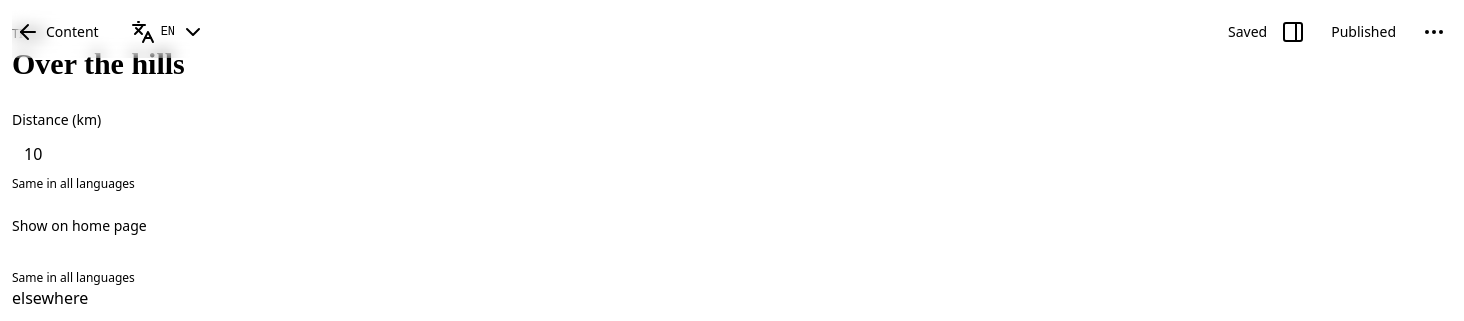
Scenario: offers AI translation only when AI is ready
The image size is (1464, 321).
What coordinates should you click on to do the following:
click the button with aria-label "Language: English"
I would click on:
 (168, 32)
Its box is [119,16,217,48].
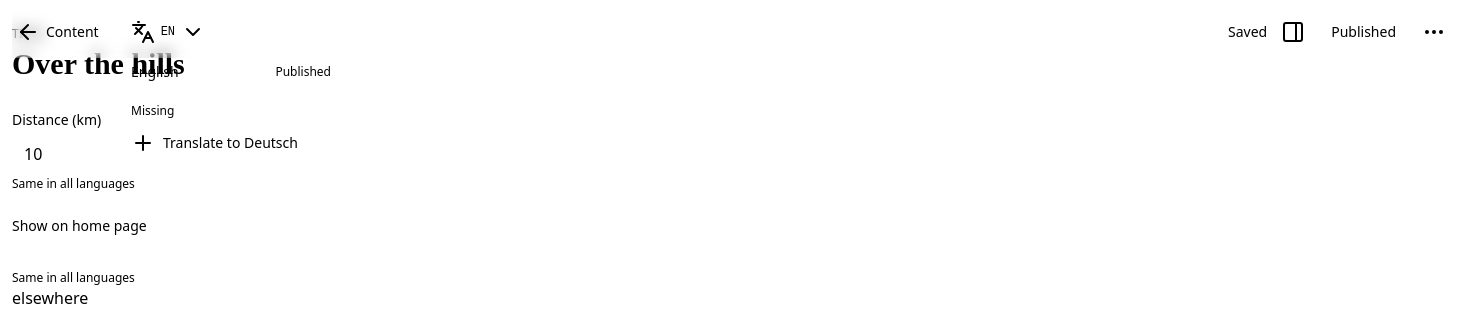
Check: the menu item "Translate to Deutsch" is shown, box [131,131,298,155]
